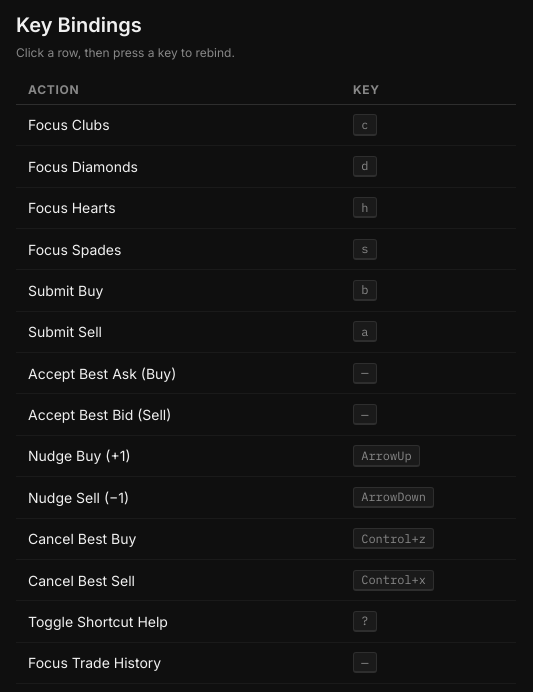
Test case: KeybindSettings › clicking a row shows "Press a key…" prompt
Click the button "Focus Clubs c".
click(69, 125)  # box x1=16 y1=104 x2=516 y2=146
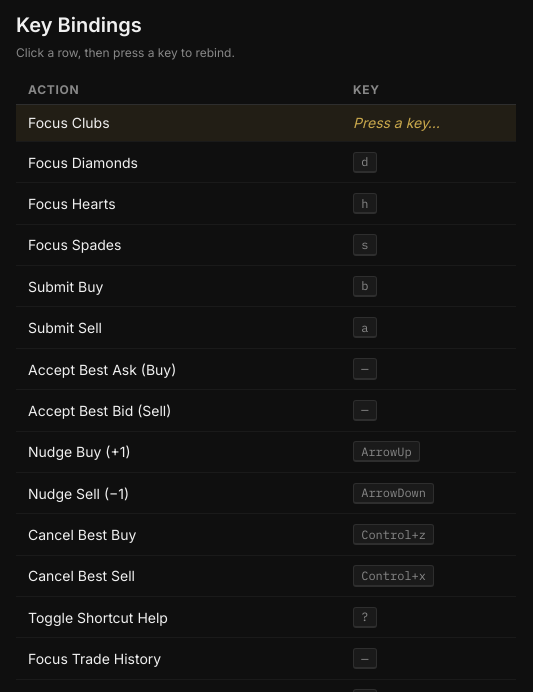
Result: the text "Press a key…" is shown at x1=353 y1=114 x2=440 y2=131
